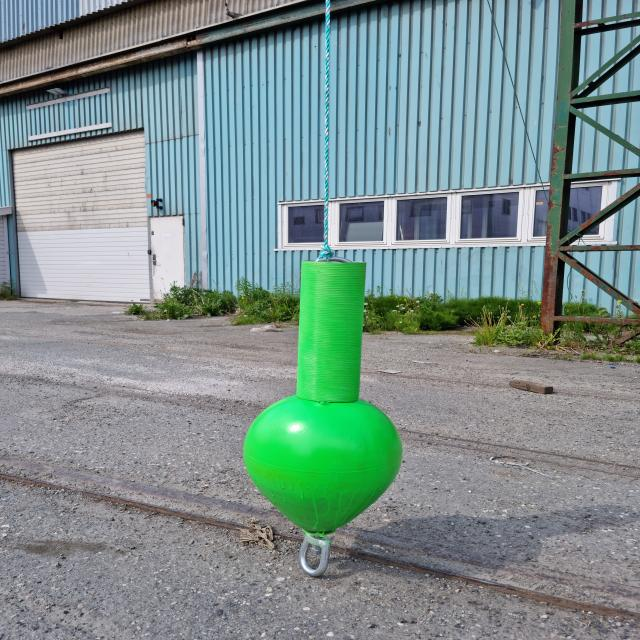green: (243, 262, 405, 531)
